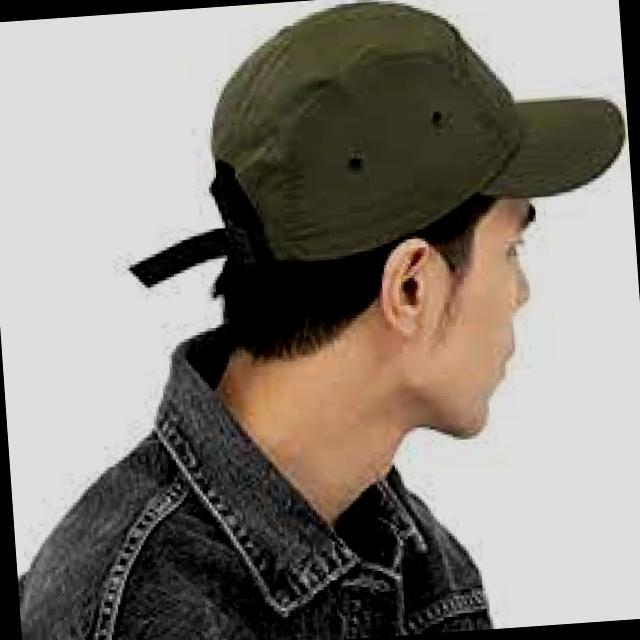cap: (139, 0, 637, 296)
